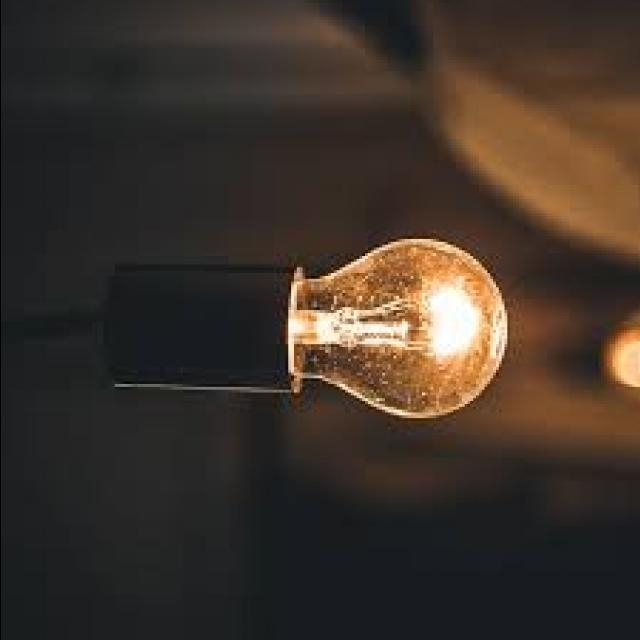light_bulb: (92, 210, 518, 446)
